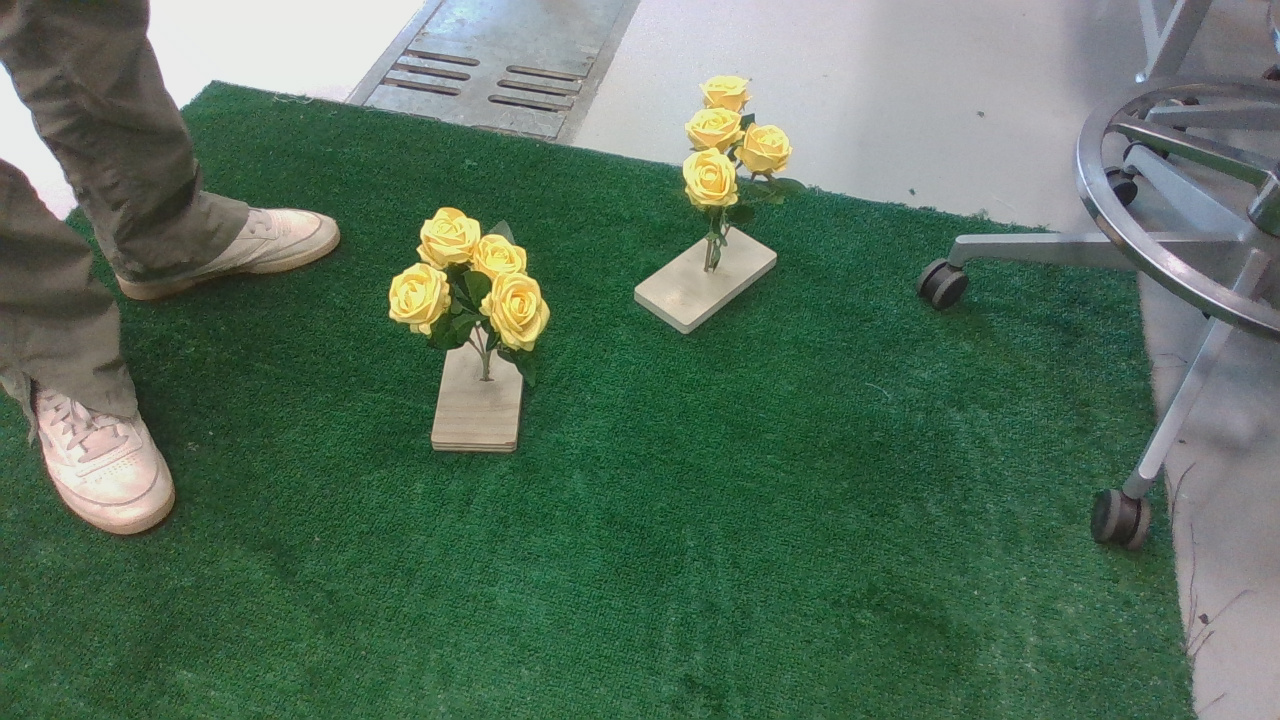rose: (390, 209, 568, 391), (678, 75, 814, 254)
